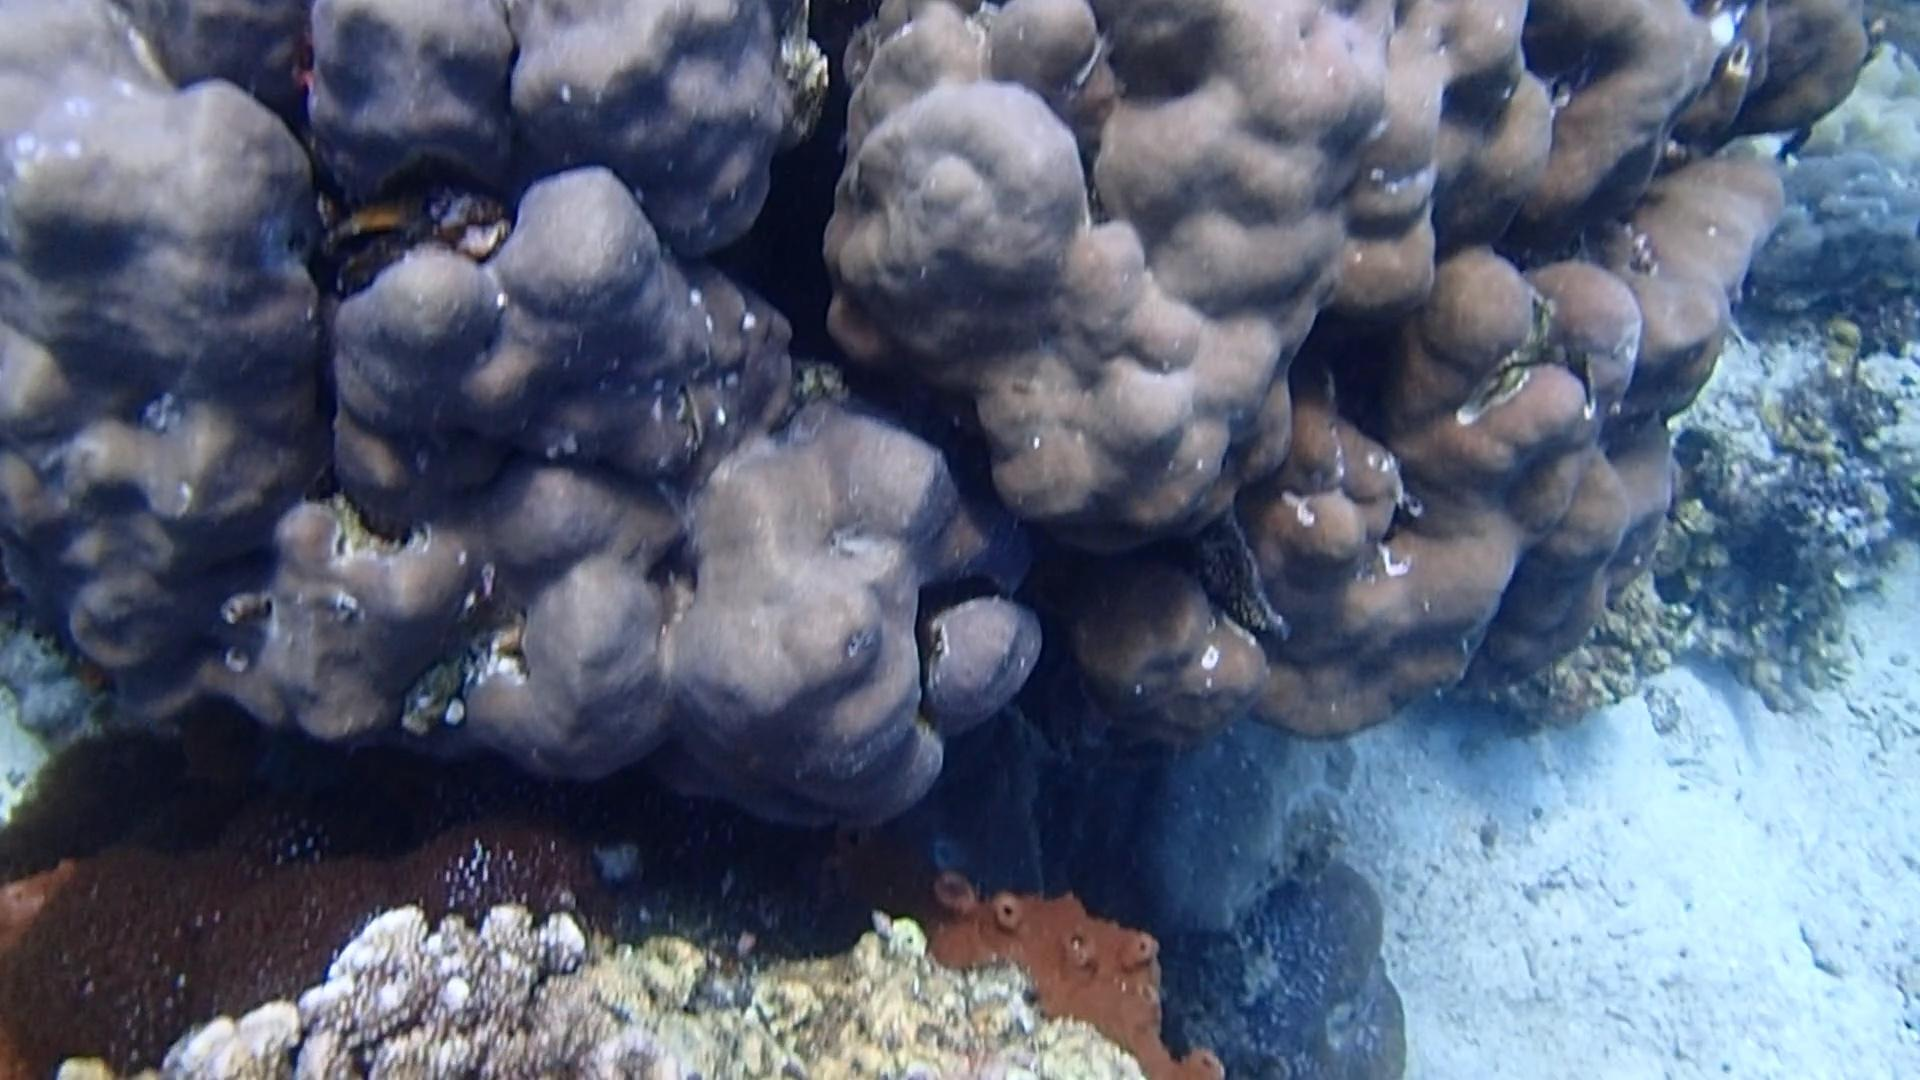Dark Fish: (1772, 120, 1820, 170)
